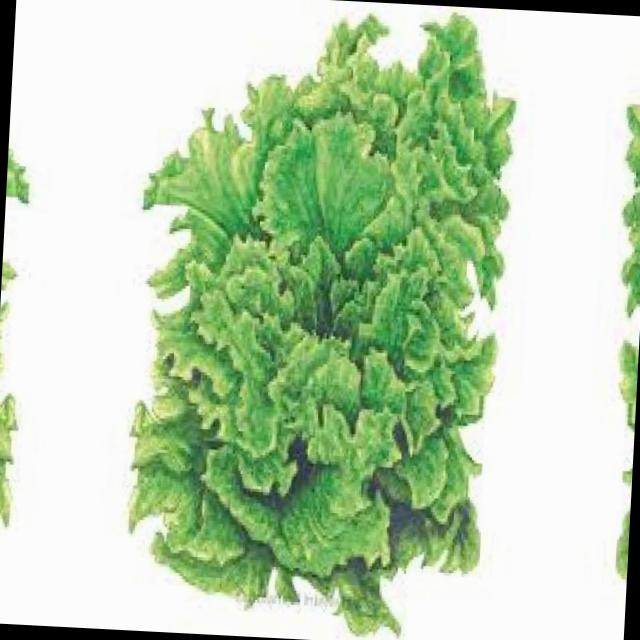healthy: (121, 10, 515, 636), (0, 3, 39, 610), (603, 35, 640, 640)
